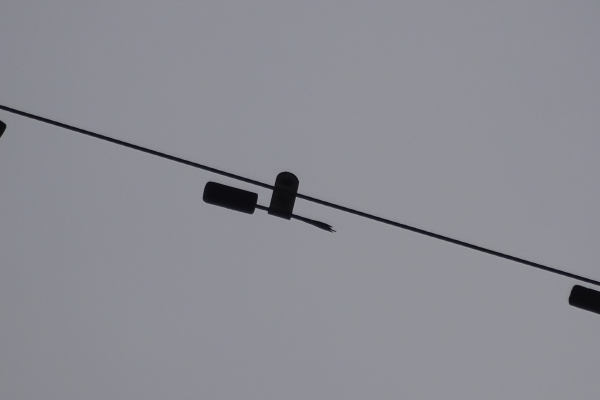damper_defect: (199, 170, 340, 236)
